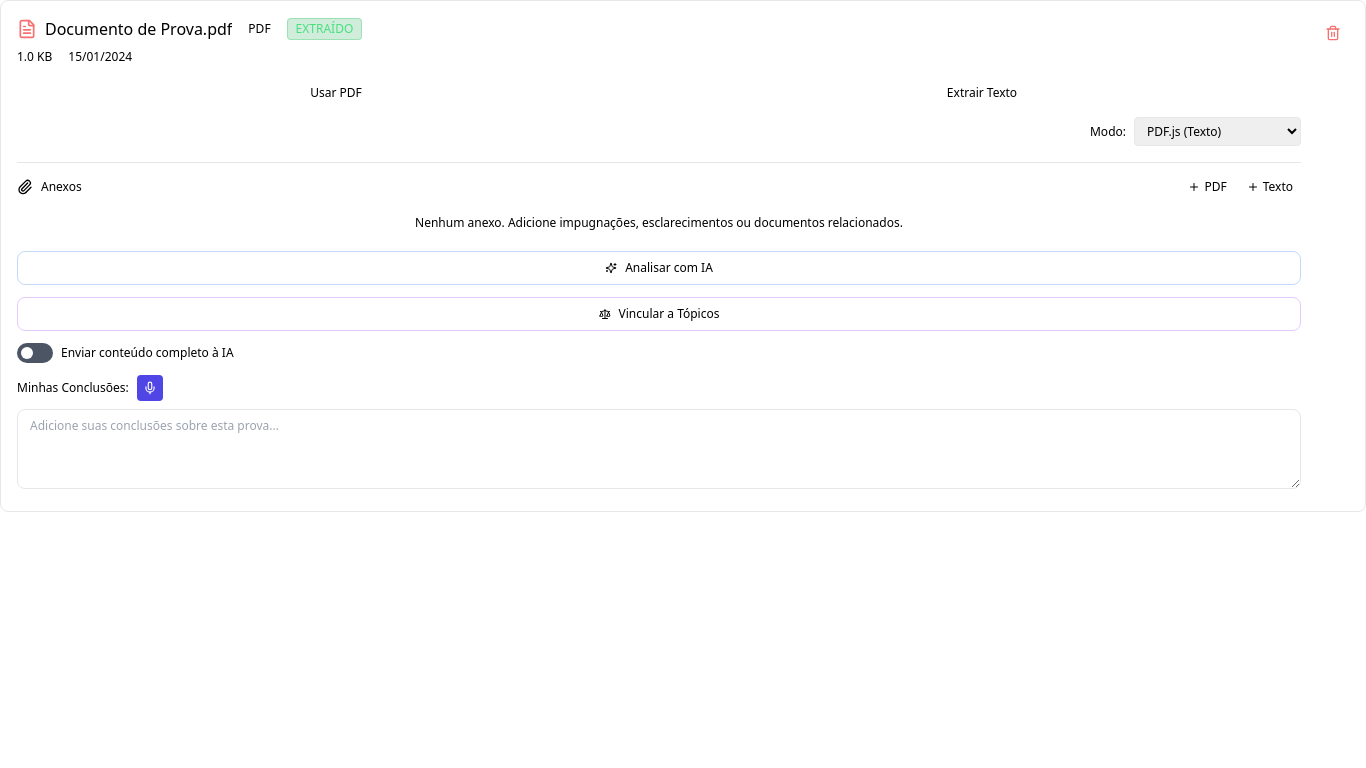
Test case: ProofCard › Attachments › should show text input form when clicking Texto button
# Find the Texto button (it's the second + button)
Click the button titled "Adicionar anexo de texto" at coordinates (1270, 187), box [1239, 175, 1301, 199]
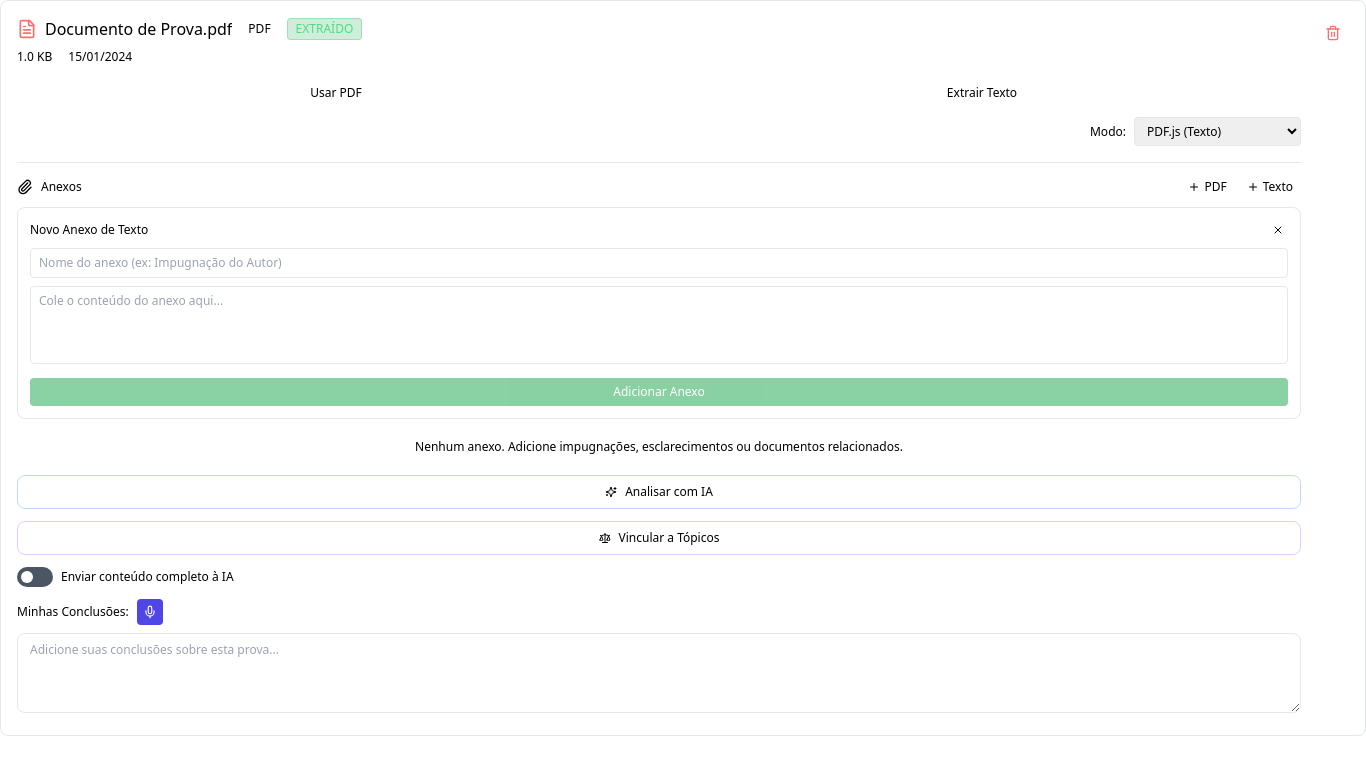
Expected: the field with placeholder "Nome do anexo (ex: Impugnação do Autor)" is shown, [30, 248, 1288, 278]
Expected: the text box with placeholder "Cole o conteúdo do anexo aqui..." is shown, [30, 286, 1288, 364]
